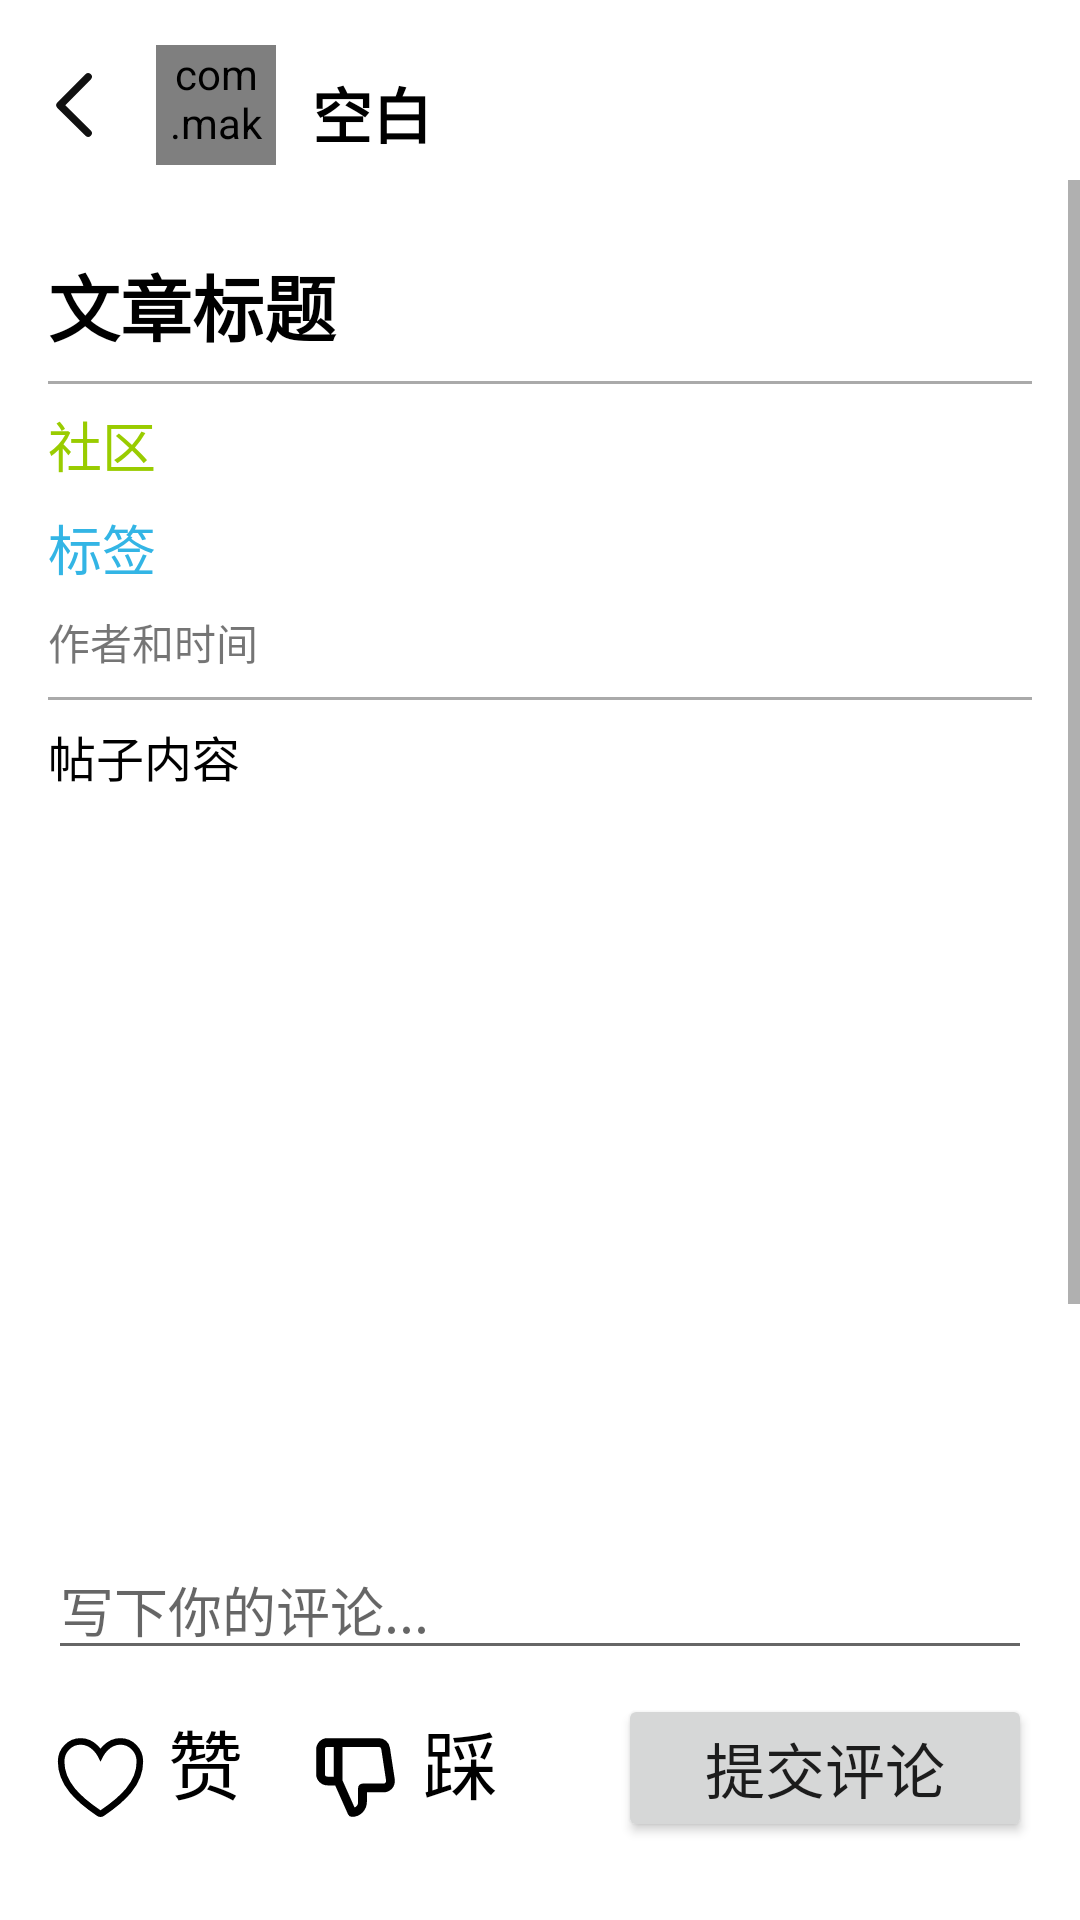

Icons on this 1080×1920 Android screen, each with the point to tap as [x,y]:
back: [74,105]
select down: [355,1777]
select love: [100,1777]
